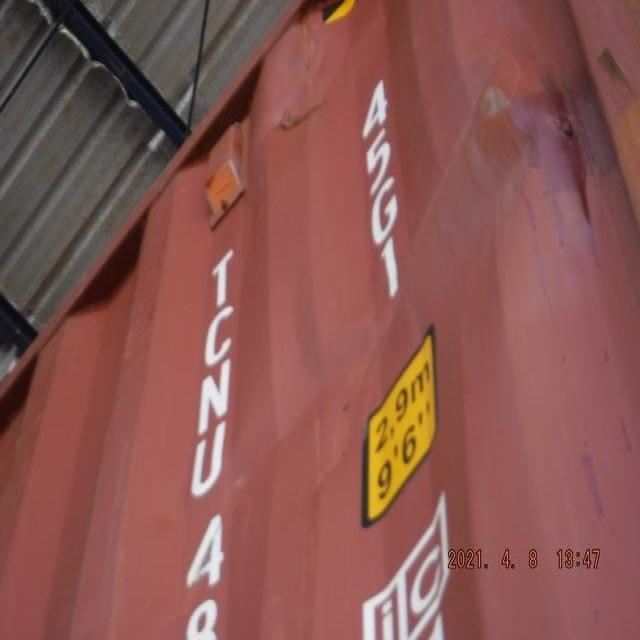dent: (372, 51, 593, 339)
